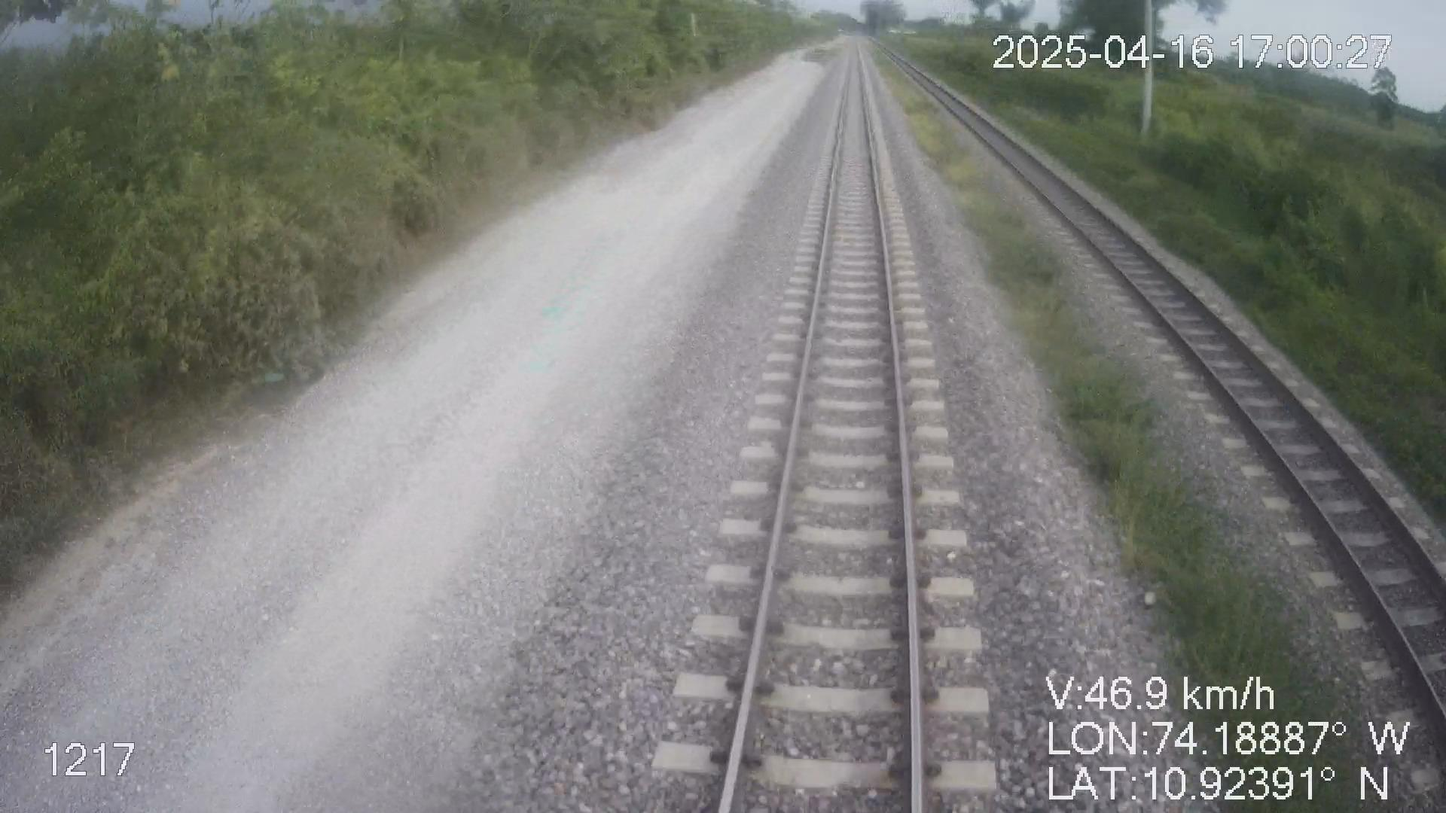Pasto: (0, 0, 831, 609), (889, 22, 1445, 531)
